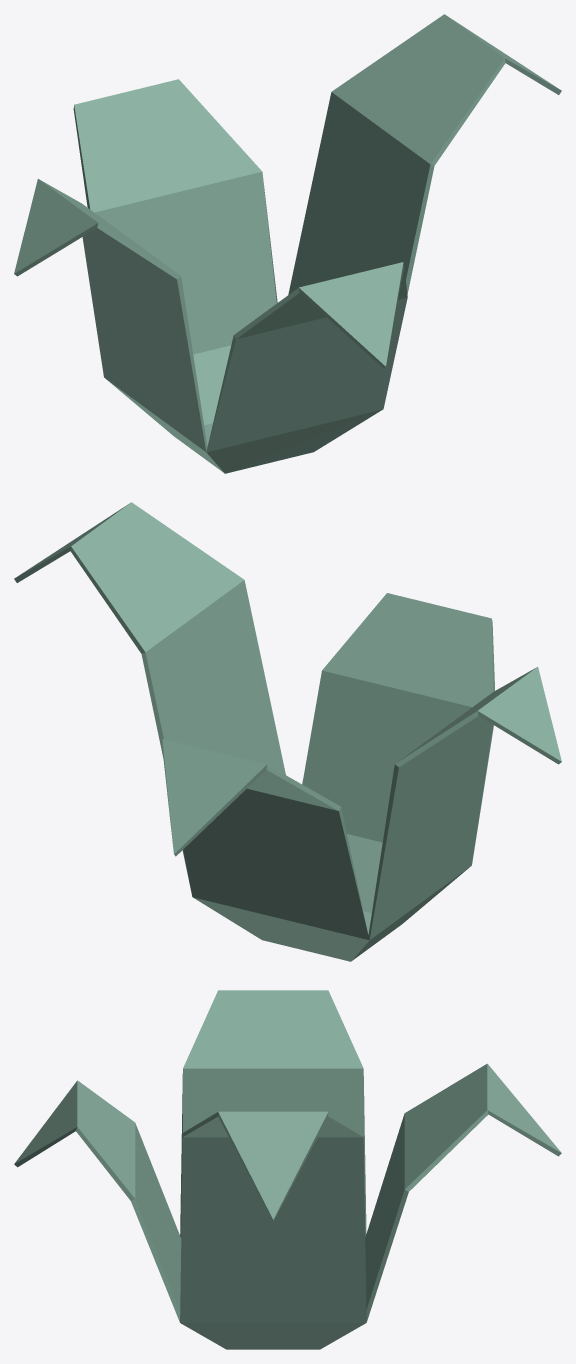
File: Nature GrassBush 3.fbx
3 views of the same model, one above another, from view 1: azimuth 30°, elevation 25°; view 2: azimuth 150°, elevation 25°; view 3: azimuth 270°, elevation 25° (orthographic). The views are drawn at different scales.
Parts seen in each view (by area): view 1: Nature GrassBush 3; view 2: Nature GrassBush 3; view 3: Nature GrassBush 3.
Part boxes in pixels (<box>): Nature GrassBush 3: <box>14,14,561,473</box>; Nature GrassBush 3: <box>14,502,561,961</box>; Nature GrassBush 3: <box>14,990,561,1349</box>.
Size of the model in its own units: 115 by 70.5 by 109.
